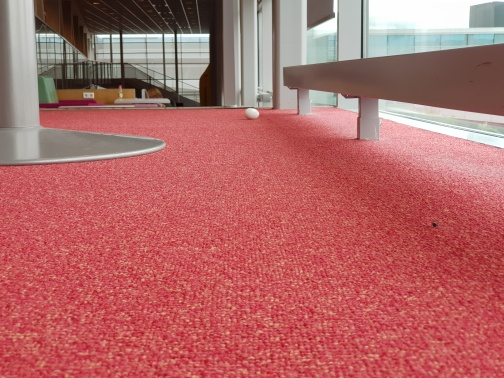egg: (243, 107, 261, 120)
